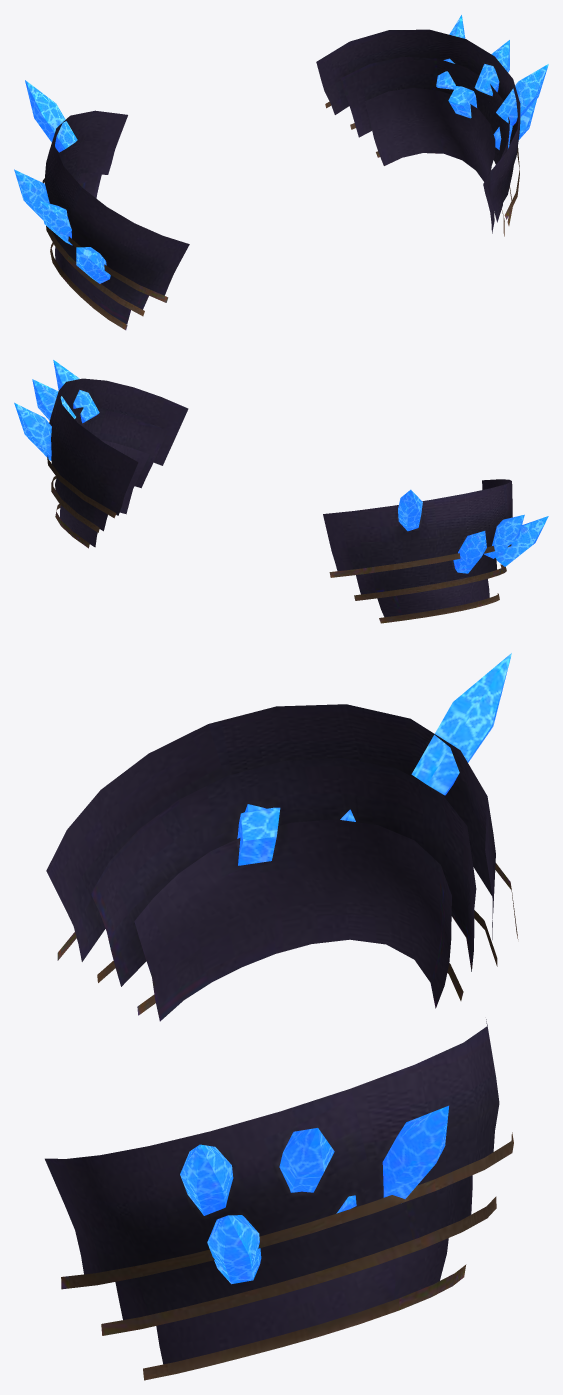
The model's file is Ombreiras_de_Cristal_nivel75.glb.
The picture shows the model from 3 angles, top to bottom: view 1: azimuth 30°, elevation 25°; view 2: azimuth 150°, elevation 25°; view 3: azimuth 270°, elevation 25°; orthographic projection. The views are drawn at different scales.
Parts seen in each view (by area): view 1: ombreiras_de_cristal_nivel75; view 2: ombreiras_de_cristal_nivel75; view 3: ombreiras_de_cristal_nivel75.
Boxes of the visible parts, x1,y1,x2,y2 form: ombreiras_de_cristal_nivel75: (14,15,548,330); ombreiras_de_cristal_nivel75: (14,360,548,623); ombreiras_de_cristal_nivel75: (45,653,518,1380).
Bounding box in the file's own units: 0.6793 × 0.2399 × 0.2871.
1 material, 1 textured.
